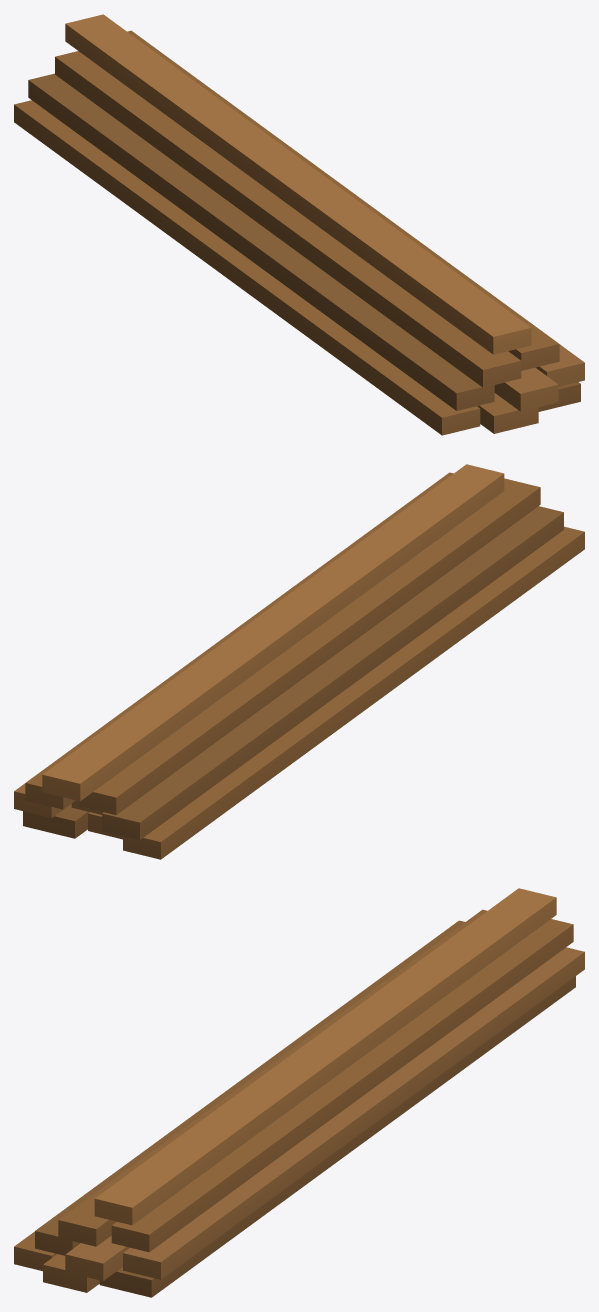
Rendered from Prop_Plank_Stack_01.obj.
The picture shows the model from 3 angles, top to bottom: view 1: azimuth 30°, elevation 25°; view 2: azimuth 150°, elevation 25°; view 3: azimuth 330°, elevation 25°; orthographic projection.
Visible parts, largest first — view 1: Prop_Plank_Stack_01; view 2: Prop_Plank_Stack_01; view 3: Prop_Plank_Stack_01.
Boxes of the visible parts, x1,y1,x2,y2 form: Prop_Plank_Stack_01: [14, 14, 584, 435]; Prop_Plank_Stack_01: [14, 464, 584, 859]; Prop_Plank_Stack_01: [14, 888, 584, 1297].
Bounding box in the file's own units: 0.687 × 0.3219 × 3.73.
Materials: 1 (1 with a texture image).
